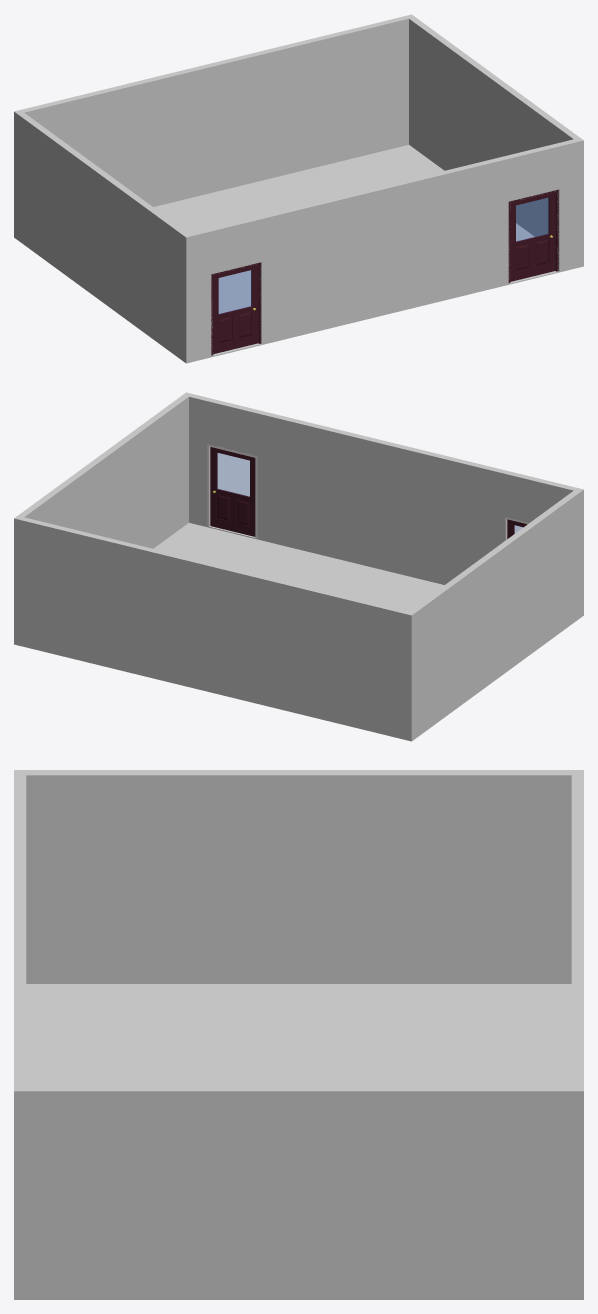
3 renders of one model, top to bottom at view 1: azimuth 30°, elevation 25°; view 2: azimuth 150°, elevation 25°; view 3: azimuth 270°, elevation 25°, orthographic. The views are drawn at different scales.
Parts seen in each view (by area): view 1: group_0 (×2), group_5 (×2), group_4 (×2), group_2 (×2); view 2: group_0 (×2), group_5, group_4, group_3; view 3: group_0 (×2).
Part boxes in pixels (bbox=[...]): group_0 (×2): bbox=[14, 14, 583, 363]; group_5 (×2): bbox=[213, 192, 555, 354]; group_4 (×2): bbox=[219, 198, 548, 313]; group_2 (×2): bbox=[211, 189, 558, 355]; group_0 (×2): bbox=[14, 392, 583, 741]; group_5: bbox=[210, 447, 255, 536]; group_4: bbox=[217, 453, 249, 496]; group_3: bbox=[207, 444, 257, 538]; group_0 (×2): bbox=[14, 770, 583, 1299].
Size of the model in its own units: 390 by 293 by 118.
